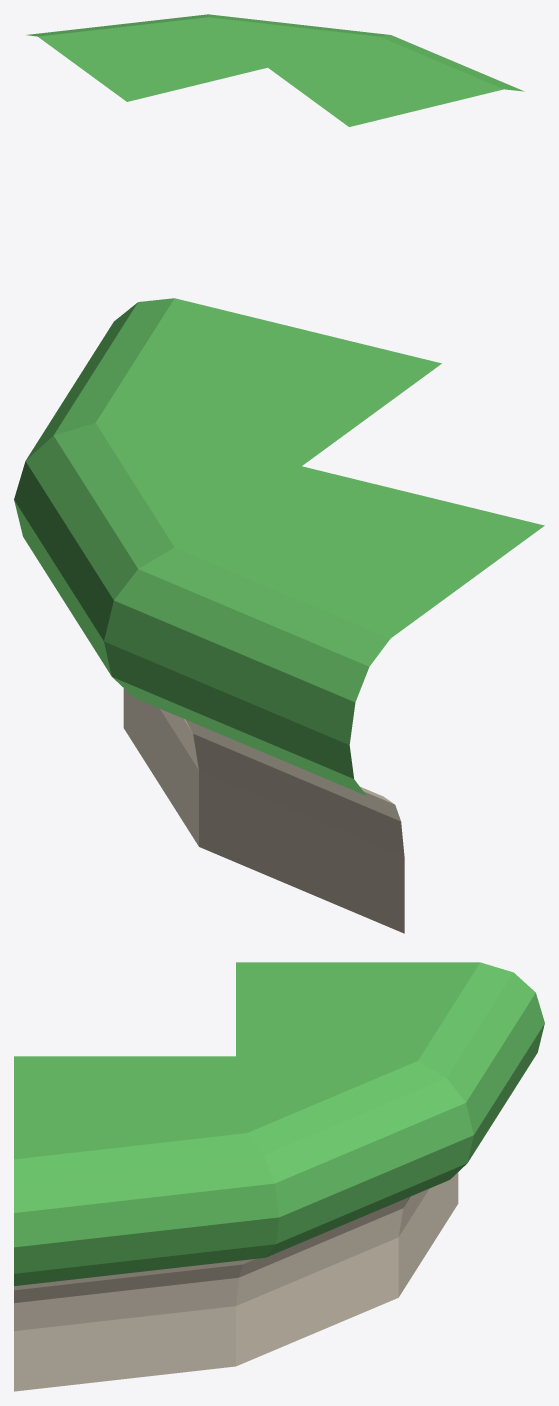
Rendered from Escarpment_Terrain_Corner_Outer_3x3_Top.glb.
3 renders of one model, top to bottom at view 1: azimuth 30°, elevation 25°; view 2: azimuth 150°, elevation 25°; view 3: azimuth 270°, elevation 25°, orthographic. The views are drawn at different scales.
Parts seen in each view (by area): view 1: Escarpment_Terrain_Corner_Outer_3x3_Top; view 2: Escarpment_Terrain_Corner_Outer_3x3_Top; view 3: Escarpment_Terrain_Corner_Outer_3x3_Top.
Boxes of the visible parts, x1=… form: Escarpment_Terrain_Corner_Outer_3x3_Top: x1=26, y1=14, x2=524, y2=126; Escarpment_Terrain_Corner_Outer_3x3_Top: x1=14, y1=298, x2=544, y2=933; Escarpment_Terrain_Corner_Outer_3x3_Top: x1=14, y1=962, x2=544, y2=1391.
Size of the model in its own units: 2.39 by 1.2 by 2.39.
